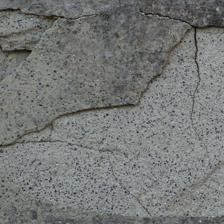Crack: (19, 44, 116, 148), (14, 3, 89, 59), (75, 18, 124, 100), (10, 42, 28, 107), (106, 56, 158, 74), (8, 32, 20, 73)
